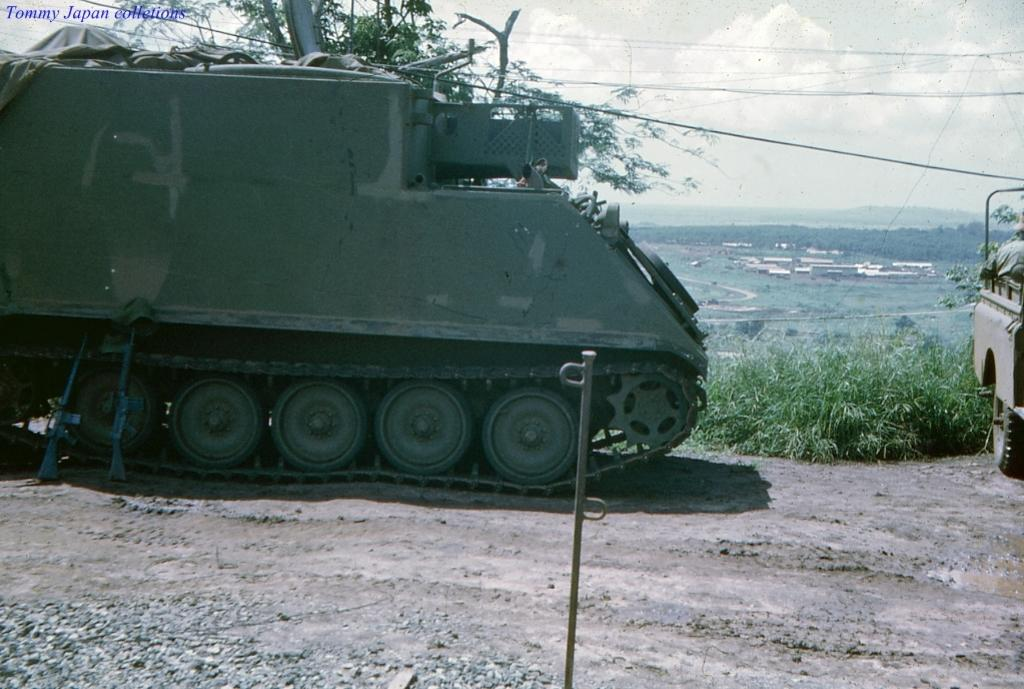Tank: (0, 25, 709, 491)
